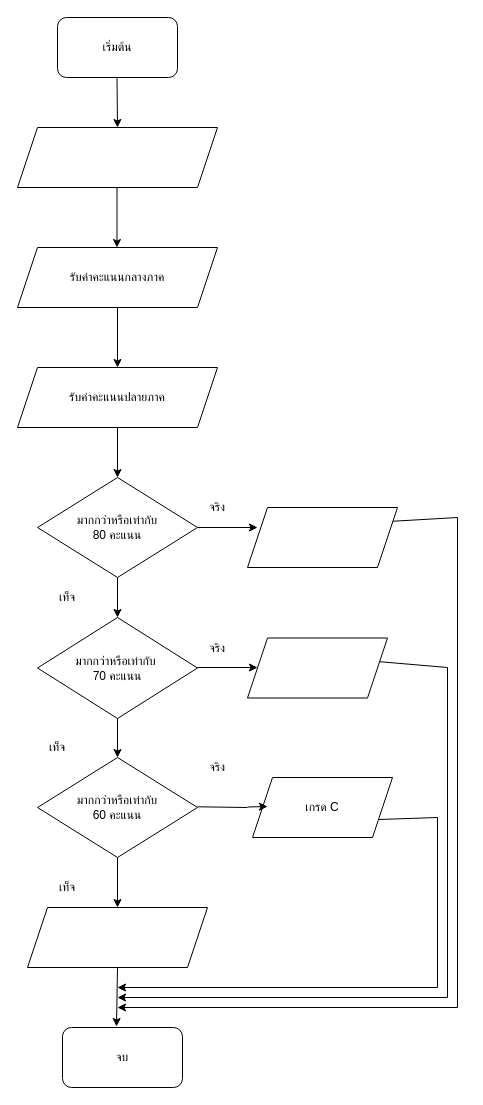
This 483x1105 diagram has some shape labels left out. Each missing label, with the box of its shape:
ต่ำกว่า 60 คะแนน ได้ F: (26, 906, 208, 968)
รับค่าคะแนนเก็บ: (16, 126, 218, 188)
เกรด A: (246, 506, 398, 568)
เกรด. B: (246, 637, 388, 698)
